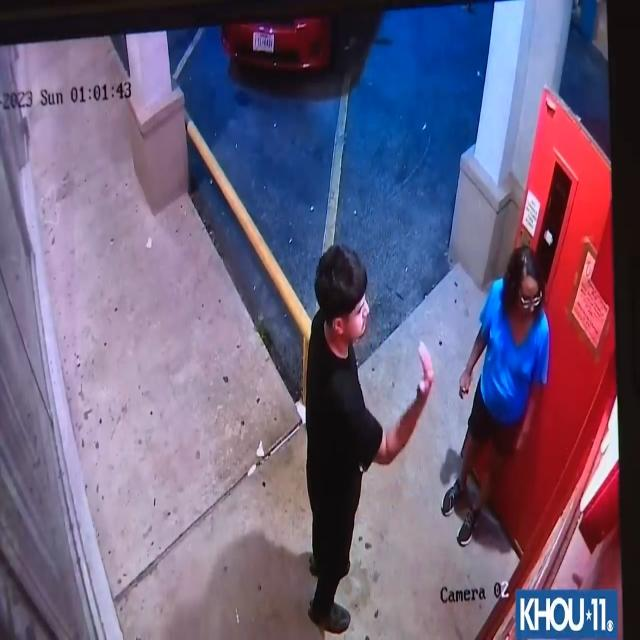Person: (299, 242, 431, 633), (444, 238, 560, 550)
